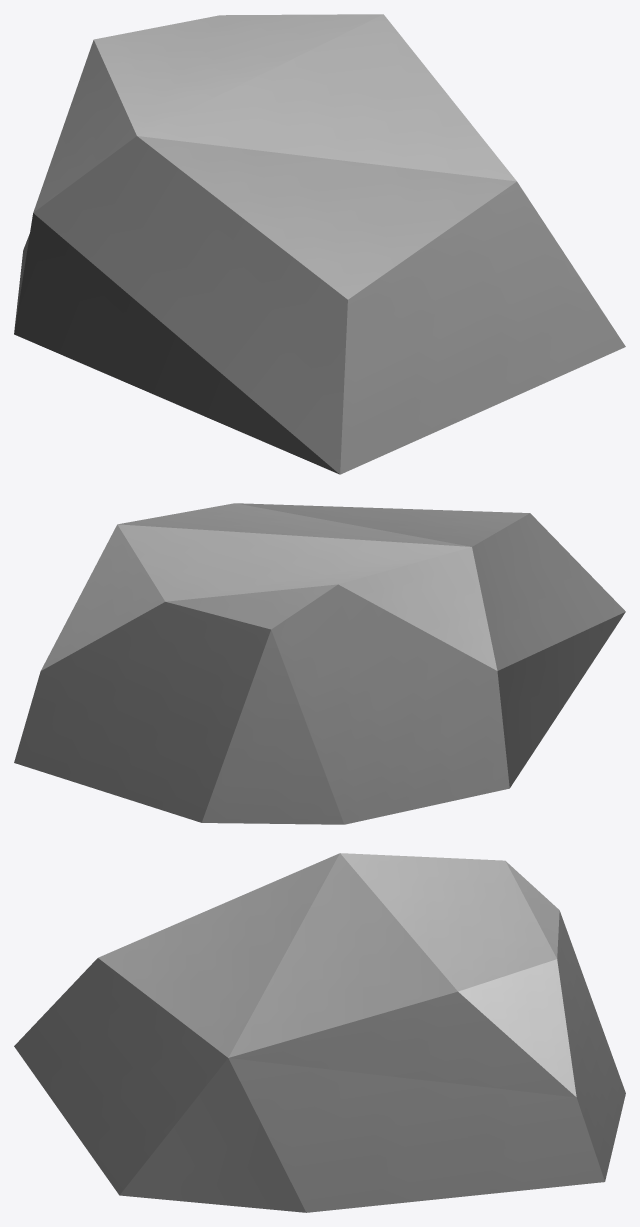
The model's file is DesertRock_02.fbx.
The picture shows the model from 3 angles, top to bottom: view 1: azimuth 30°, elevation 25°; view 2: azimuth 150°, elevation 25°; view 3: azimuth 270°, elevation 25°; orthographic projection. The views are drawn at different scales.
Parts seen in each view (by area): view 1: DesertRock_02; view 2: DesertRock_02; view 3: DesertRock_02.
Part boxes in pixels (x1=…): DesertRock_02: x1=14, y1=14, x2=625, y2=474; DesertRock_02: x1=14, y1=503, x2=625, y2=824; DesertRock_02: x1=14, y1=853, x2=625, y2=1212.
Size of the model in its own units: 578 by 255 by 711.
